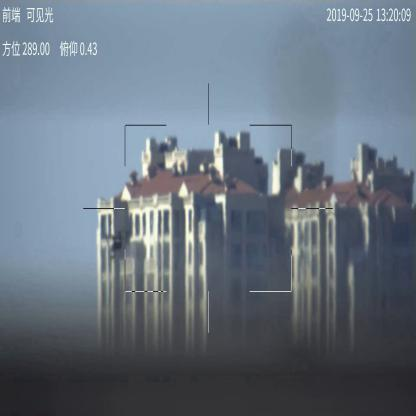uav: (104, 232, 130, 259)
